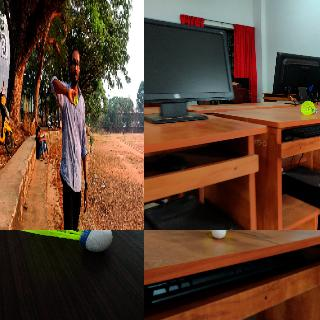shuttlecock: (14, 230, 112, 252), (203, 230, 235, 239), (300, 100, 316, 116), (74, 96, 77, 106)
